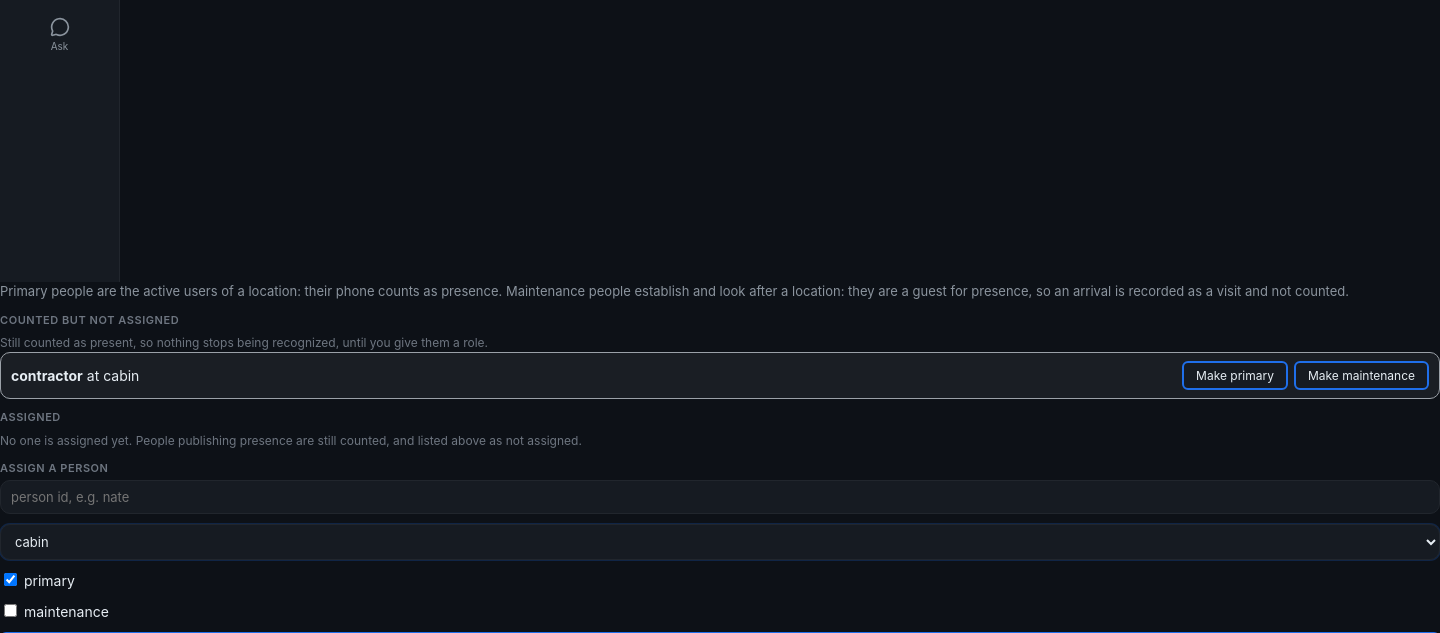
Test case: LocationRolesCard safety and repairs (#342 HOLD) › announces a successful save in a polite status region
(page scrolled)
Click the button with aria-label "Make contractor maintenance at cabin": [1361, 376] box [1294,361,1429,390]
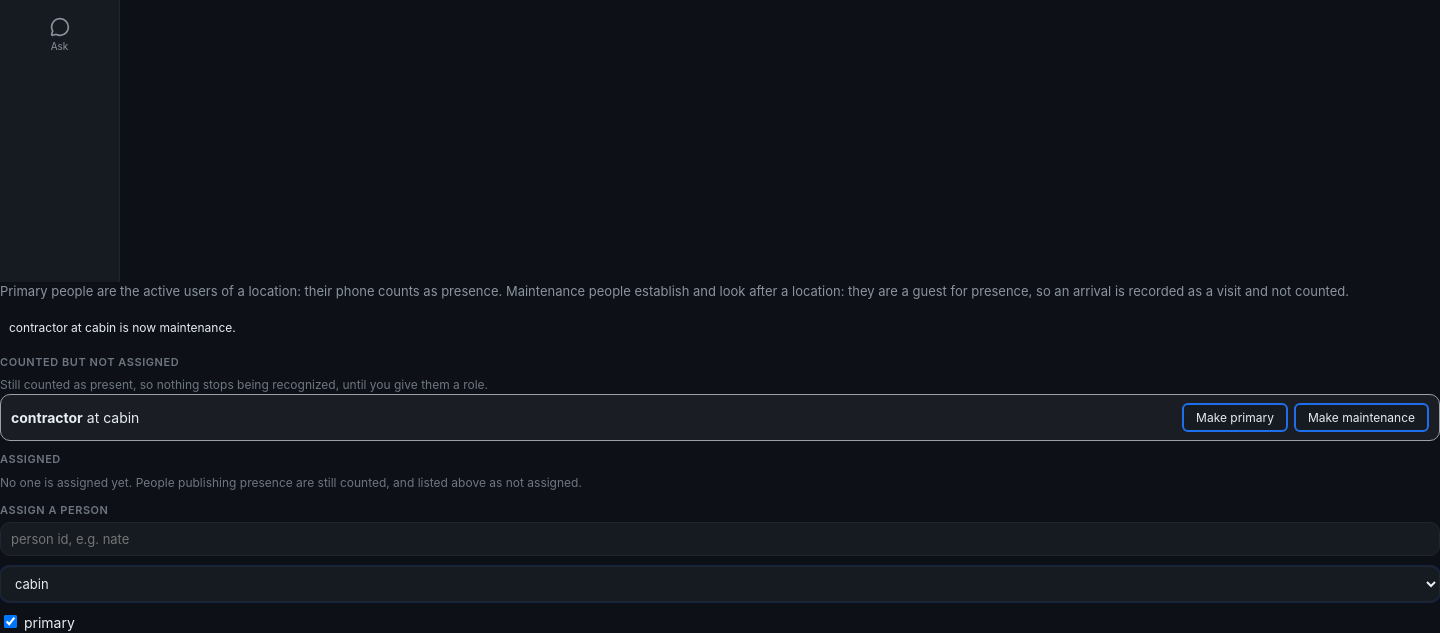
Now the message reads "contractor at cabin is now maintenance.", box [9,320,236,334]
